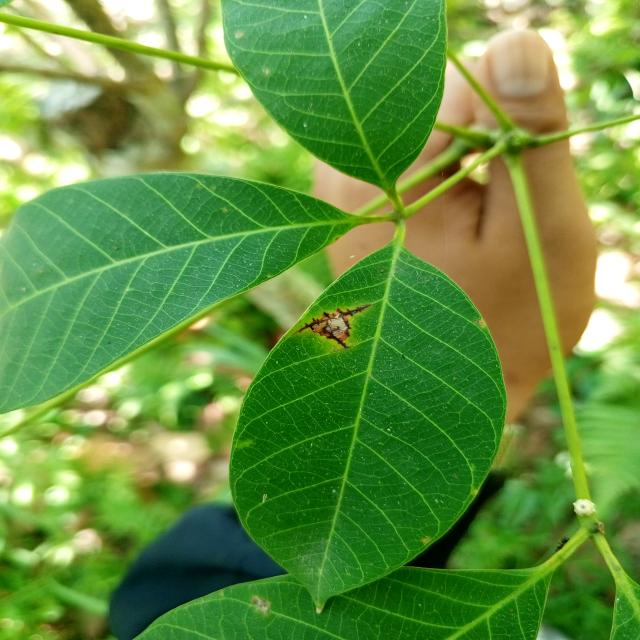Corynespora: (292, 304, 372, 349)
Leaf-Blight: (328, 318, 348, 341)
